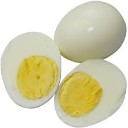begg: (63, 58, 125, 125), (3, 33, 56, 103), (59, 1, 126, 55)
